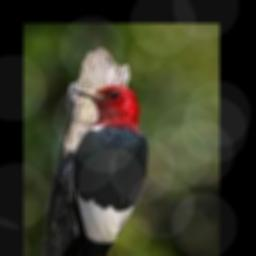Woodpecker: (61, 85, 151, 256)
